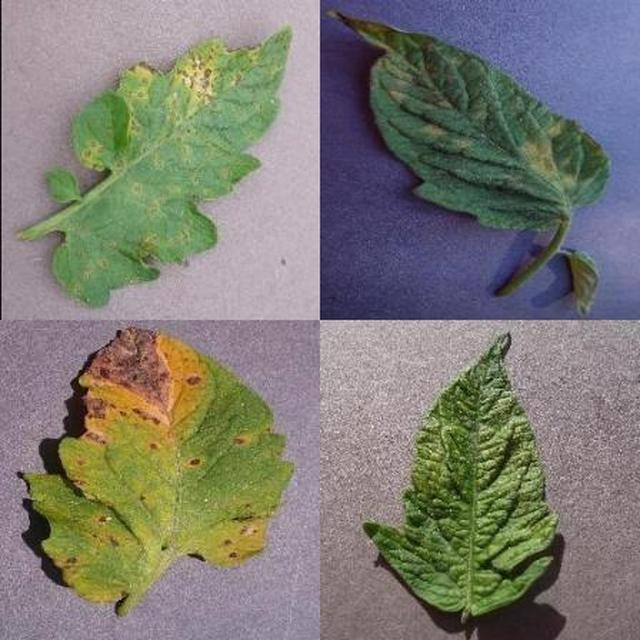Septoria Leaf: (230, 173, 640, 640)
